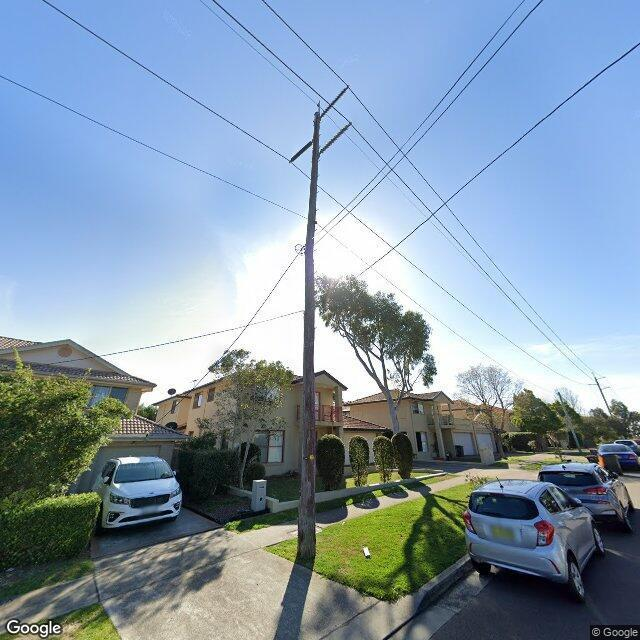HV-transmission: (290, 85, 351, 163), (588, 372, 610, 391)
steel-pole: (558, 391, 582, 454)
timber-pole: (298, 111, 324, 559), (594, 378, 613, 418)
